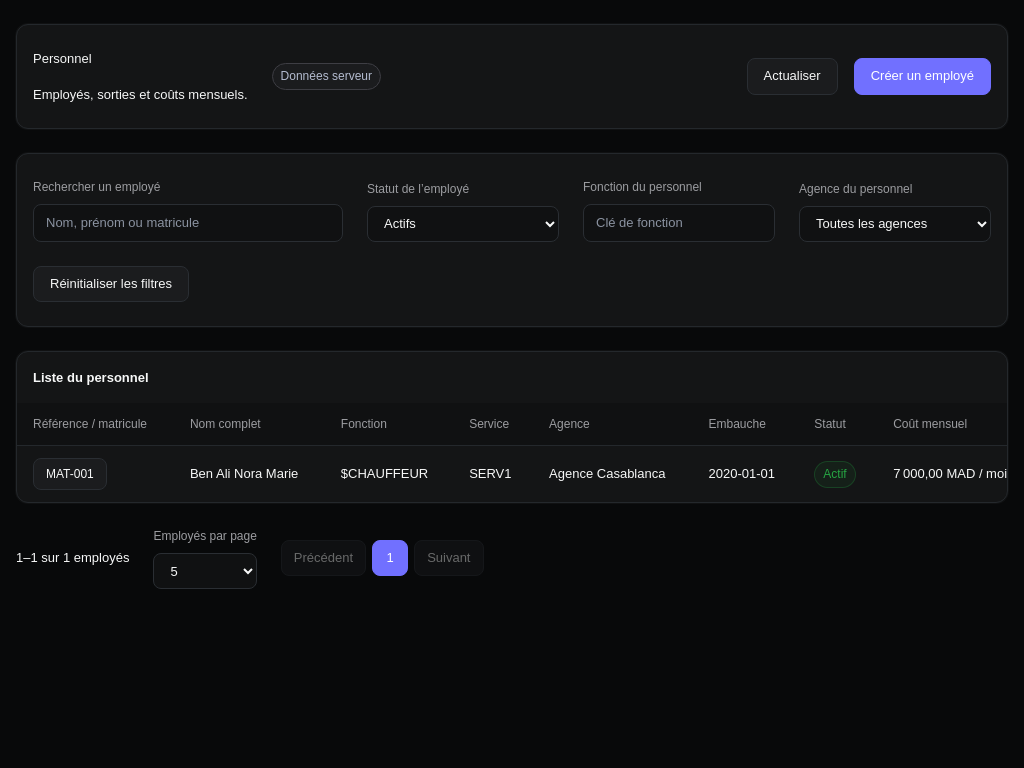
Test: Personnel connected presentation › loads the complete detail then saves separated names and preserves department
Click the button "MAT-001" at (70, 474), box x1=33 y1=458 x2=107 y2=490
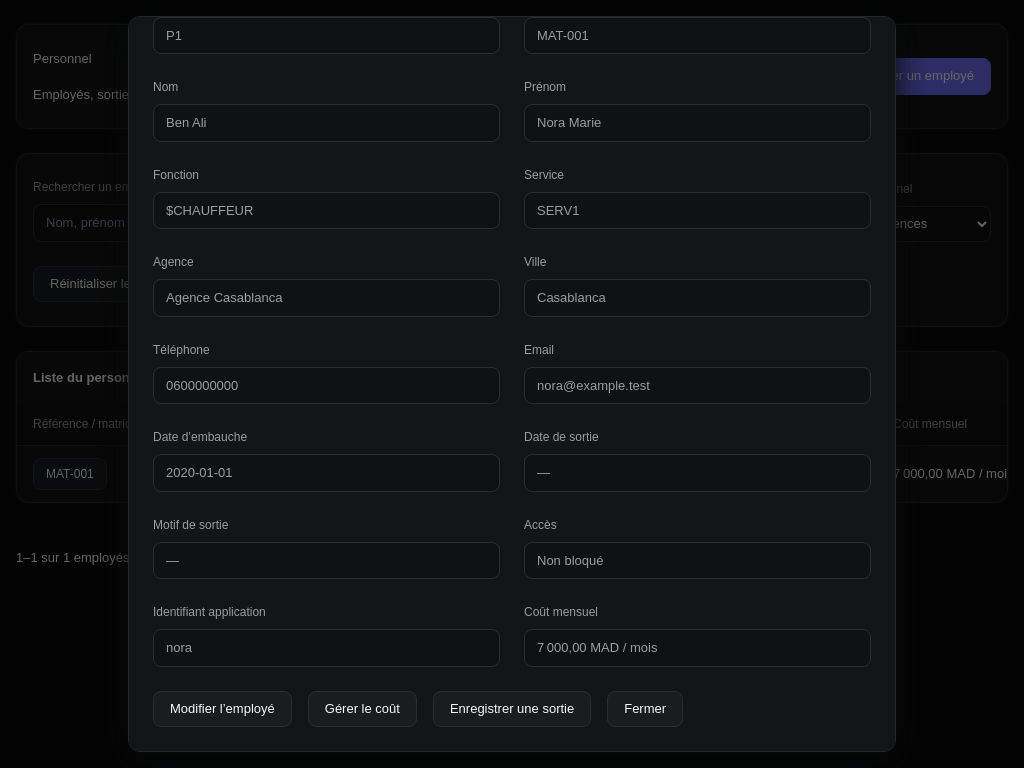
Result: the field labelled "Nom" is shown at x1=153 y1=104 x2=500 y2=142
Click the button "Modifier l’employé" at (222, 709), box x1=153 y1=691 x2=292 y2=727
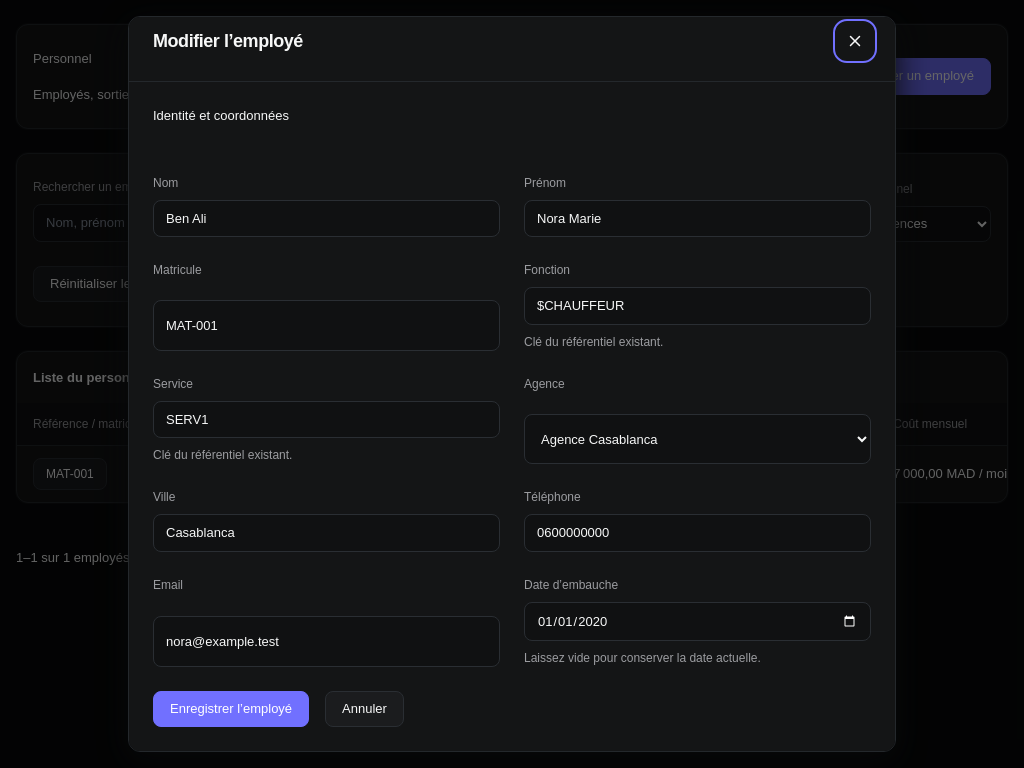
Result: the field labelled "Prénom" holds "Nora Marie" at x1=524 y1=200 x2=871 y2=237
Replace the text in the field labelled "Nom" with "Ben Amor" at (326, 218), box x1=153 y1=200 x2=500 y2=237
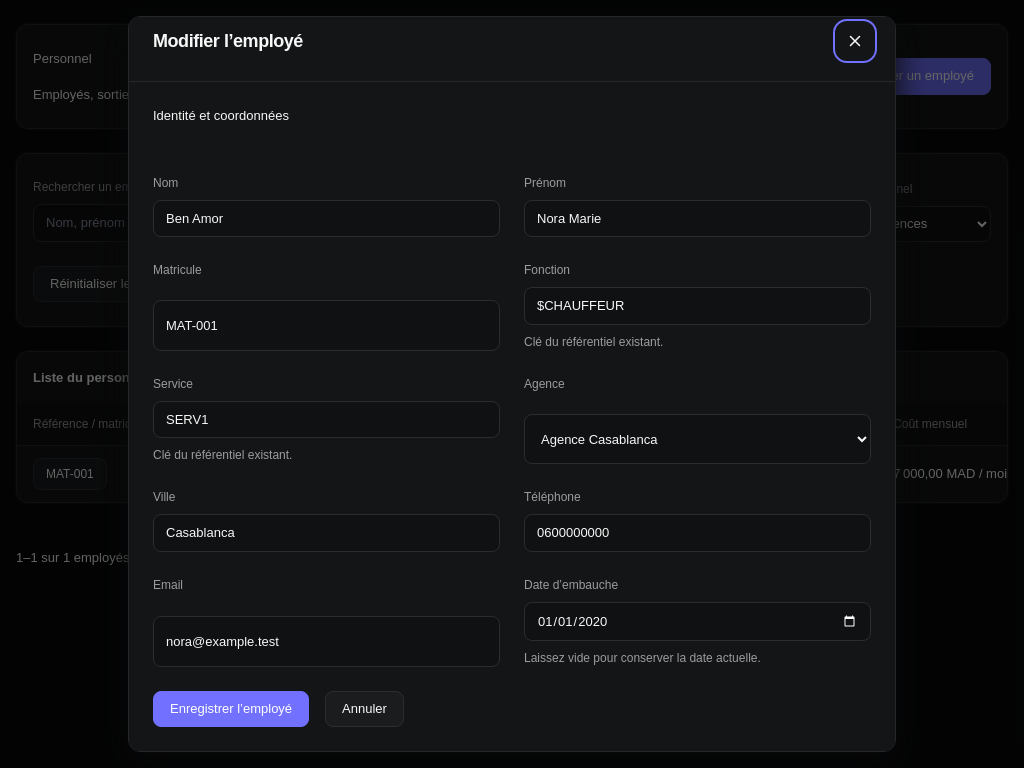
Click the button "Enregistrer l’employé" at (231, 709), box x1=153 y1=691 x2=309 y2=727
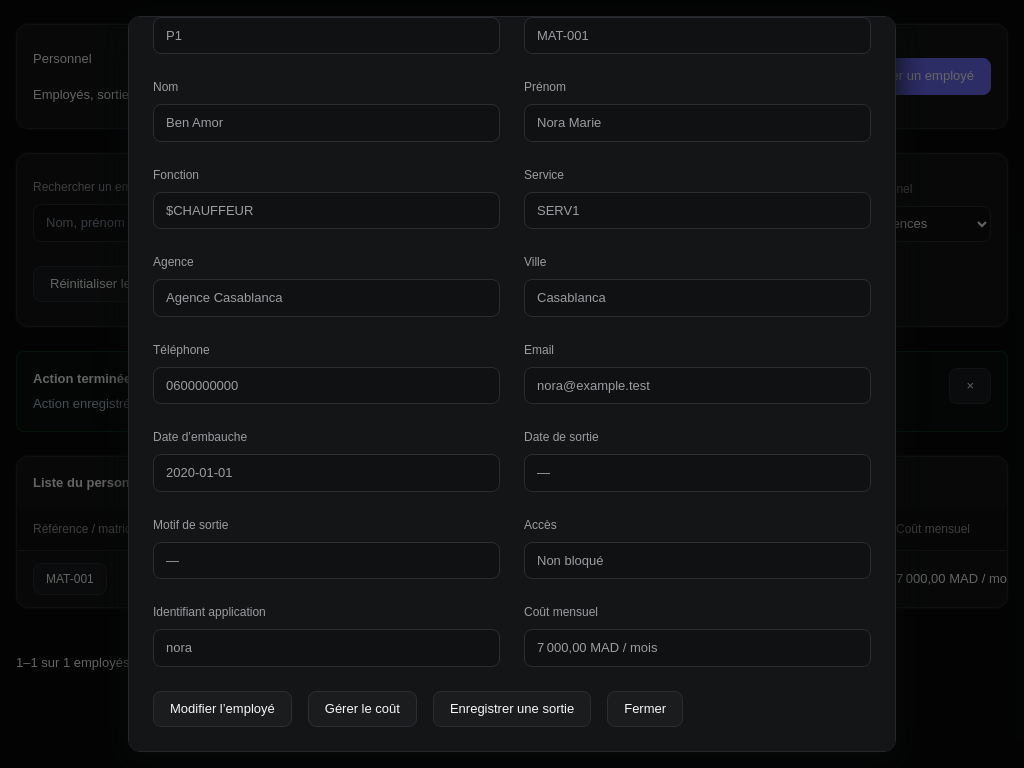
Result: the field showing "Ben Amor" is shown at x1=153 y1=104 x2=500 y2=142
Result: the text "Action enregistrée par le serveur." is shown at x1=33 y1=396 x2=224 y2=411
